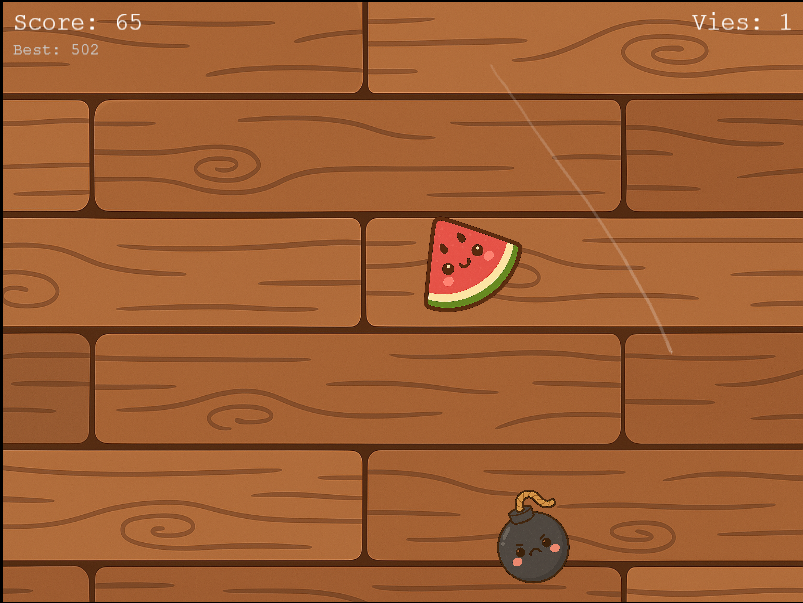bomb: (484, 483, 581, 589)
fruit: (420, 210, 526, 313)
